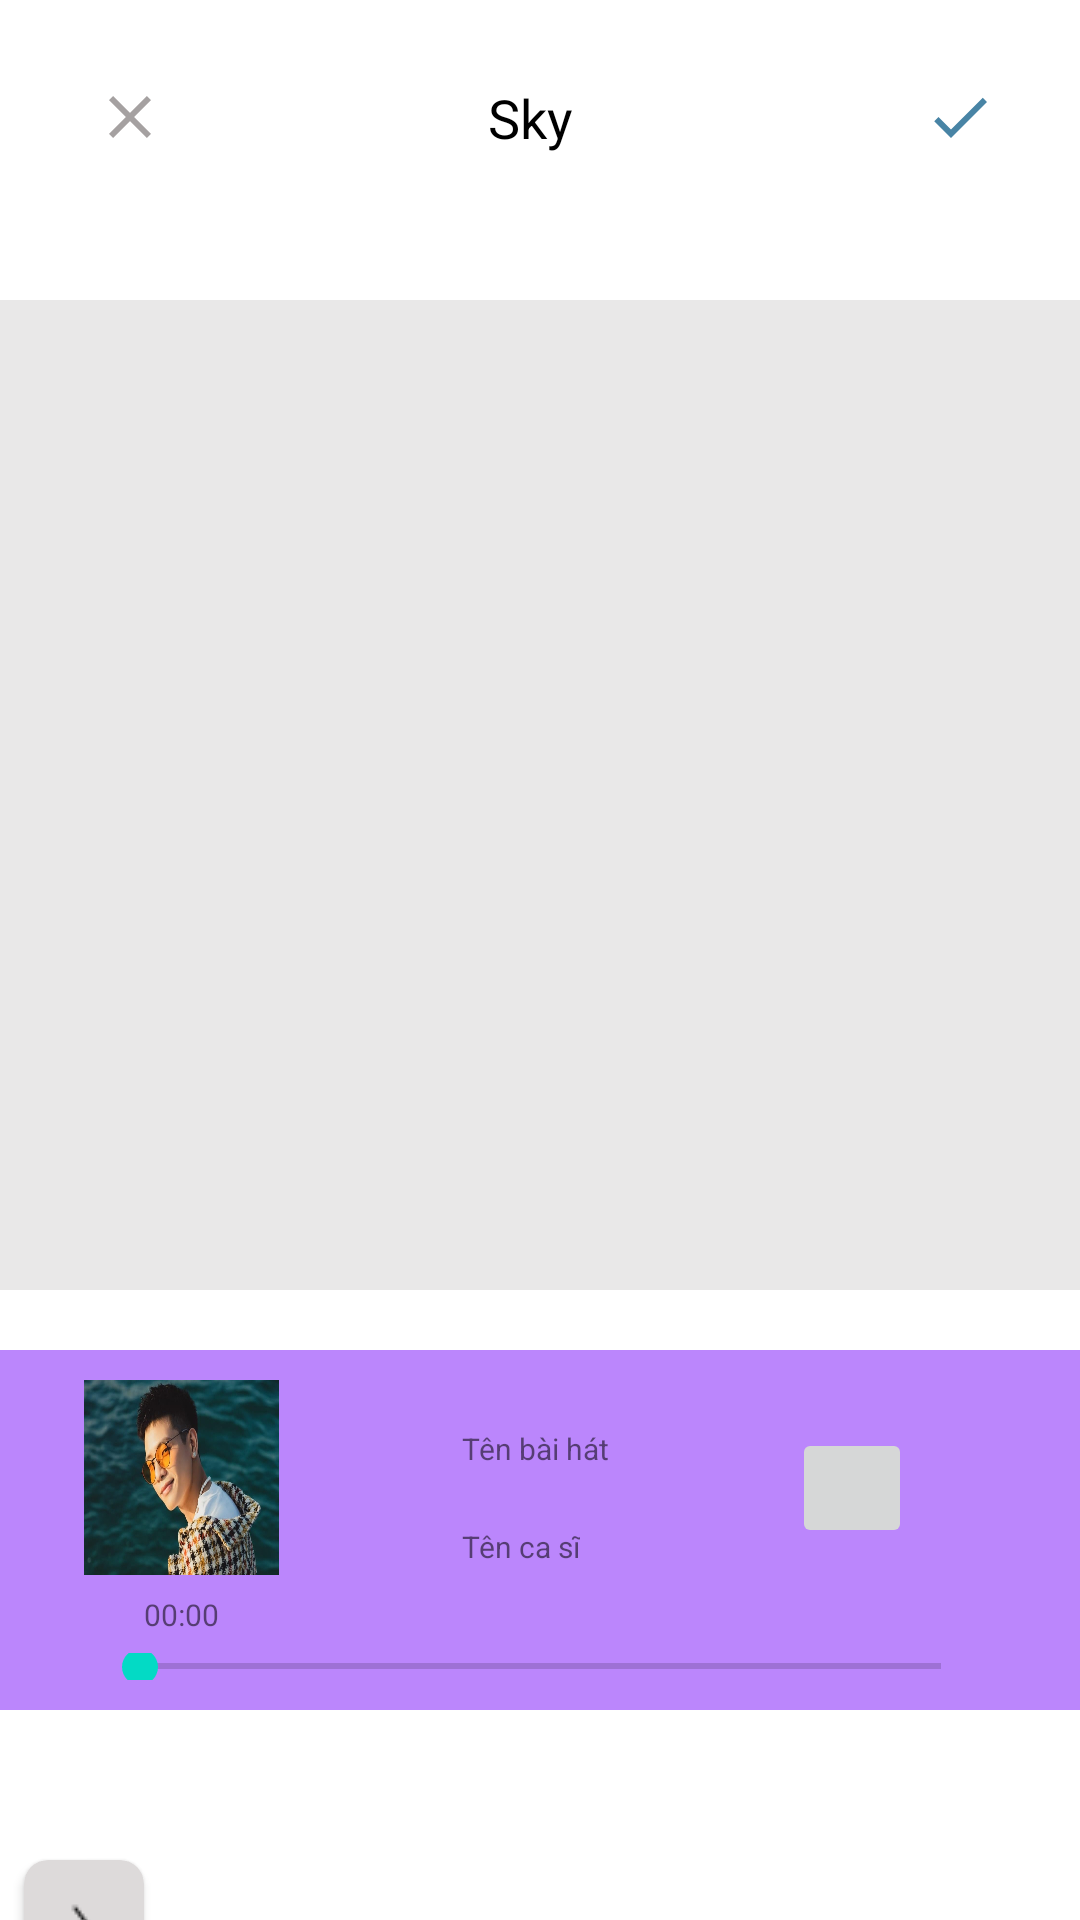

Named icons in this screenshot (1080px x 1920px) and their bounding boxes, (x1, y1, x2, y2):
check: (934, 98, 987, 138)
clear: (109, 96, 151, 138)
